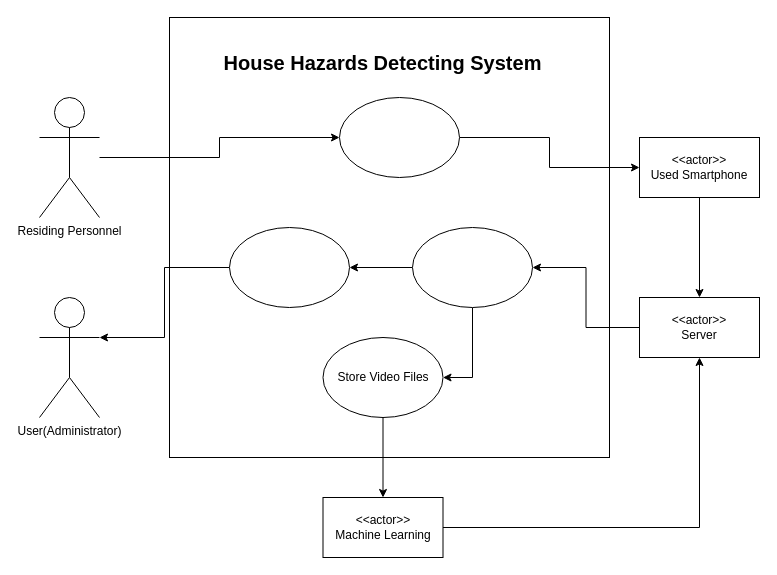
Image size: 777x575. Some labels were removed from this diagram. The shapes that lost their labels are listed below. From the top down, each one's centre as x and y in pixels, then its label:
At (x=399, y=137): "Suspicious Movement".
At (x=289, y=267): "Send the State of Personnel".
At (x=472, y=267): "Analyze the Movement".
